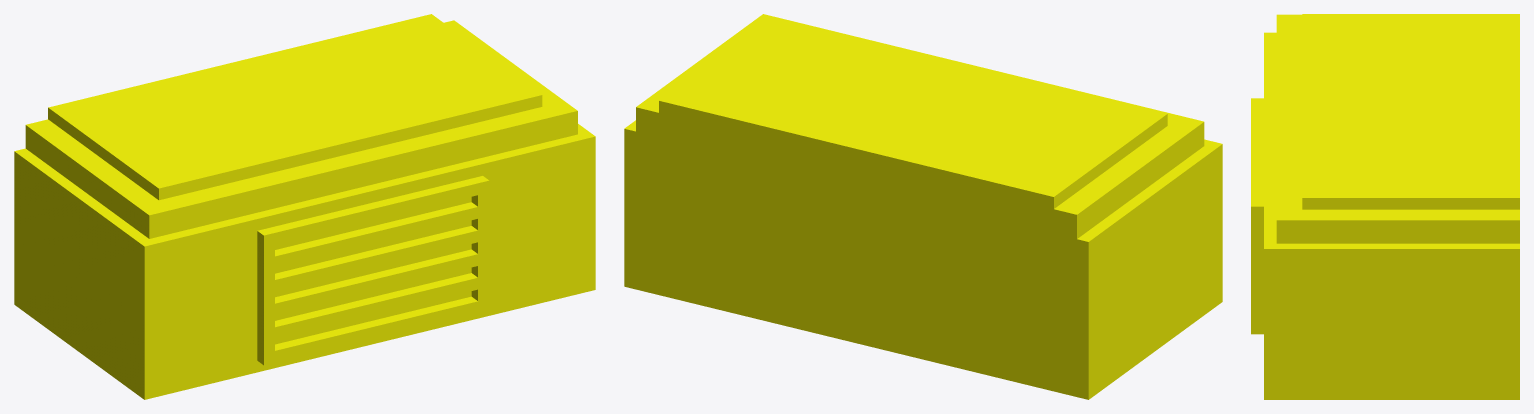
File: BuildingBlock_24.glb
The picture shows the model from 3 angles, left to right: view 1: azimuth 30°, elevation 25°; view 2: azimuth 150°, elevation 25°; view 3: azimuth 270°, elevation 25°; orthographic projection. The views are drawn at different scales.
Parts seen in each view (by area): view 1: BuildingBlock_24; view 2: BuildingBlock_24; view 3: BuildingBlock_24.
Part boxes in pixels (box(x1,y1,x2,y2)): BuildingBlock_24: box(14, 14, 595, 399); BuildingBlock_24: box(624, 14, 1222, 399); BuildingBlock_24: box(1251, 14, 1519, 399).
Bounding box in the file's own units: 4 × 1.6 × 2.1.
